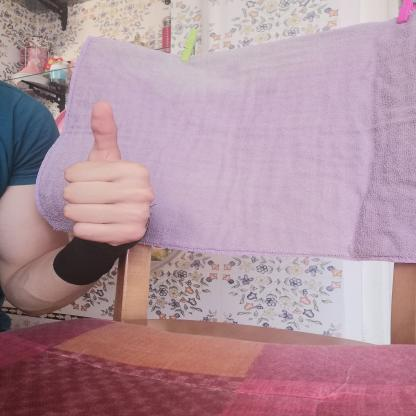ALIF: (47, 96, 172, 252)
